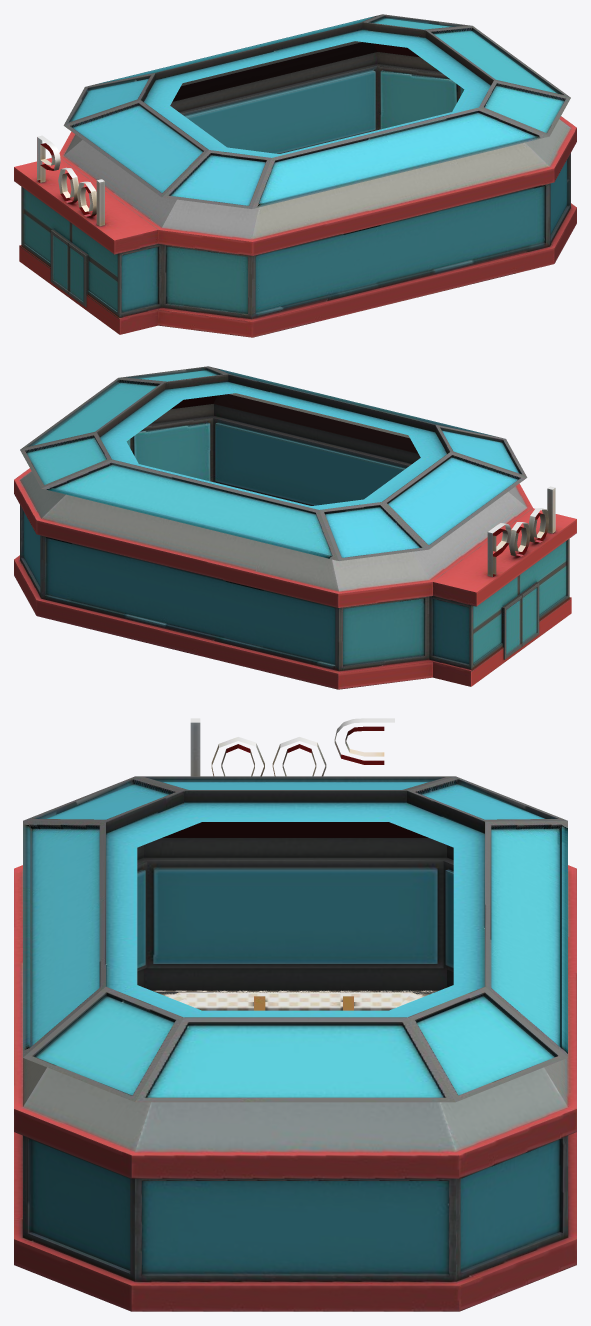
The model's file is Pool.glb.
3 views of the same model, one above another, from view 1: azimuth 30°, elevation 25°; view 2: azimuth 150°, elevation 25°; view 3: azimuth 270°, elevation 25° (orthographic). The views are drawn at different scales.
Visible parts, largest first — view 1: Plane009; view 2: Plane009; view 3: Plane009.
Part boxes in pixels (left/top/right/bottom): Plane009: left=14, top=14, right=576, bottom=337; Plane009: left=14, top=366, right=576, bottom=689; Plane009: left=14, top=718, right=576, bottom=1311.
Bounding box in the file's own units: 10.13 × 3.09 × 6.54.
1 material, 1 textured.
